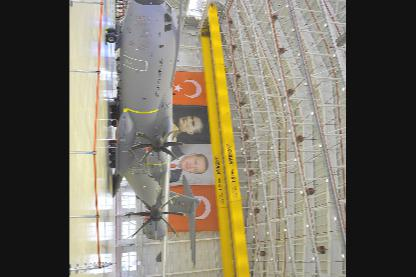A400M: (106, 0, 202, 275)
